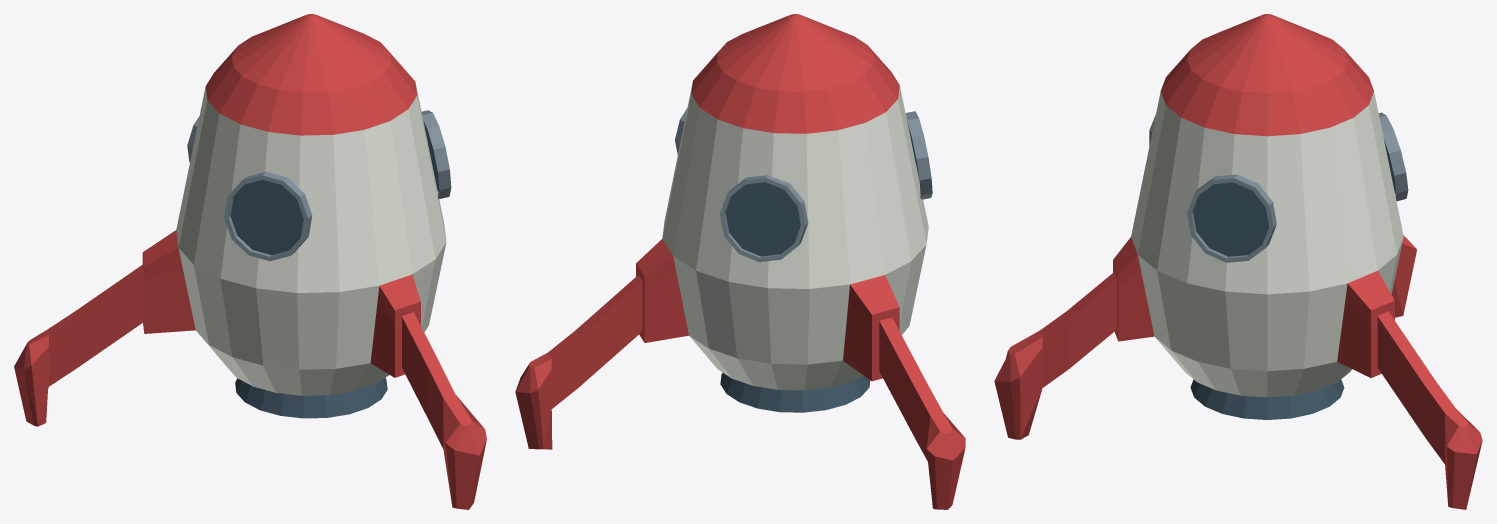
The model's file is space_shuttle_model.fbx.
3 views of the same model, side by side, from view 1: azimuth 30°, elevation 25°; view 2: azimuth 150°, elevation 25°; view 3: azimuth 270°, elevation 25° (orthographic).
Parts seen in each view (by area): view 1: pCylinder5; view 2: pCylinder5; view 3: pCylinder5.
Boxes of the visible parts, box(x1,y1,x2,y2) form: pCylinder5: box(14, 14, 486, 509); pCylinder5: box(515, 14, 965, 509); pCylinder5: box(994, 14, 1482, 509).
Bounding box in the file's own units: 10.7 × 10.13 × 10.84.
1 material, 1 textured.
